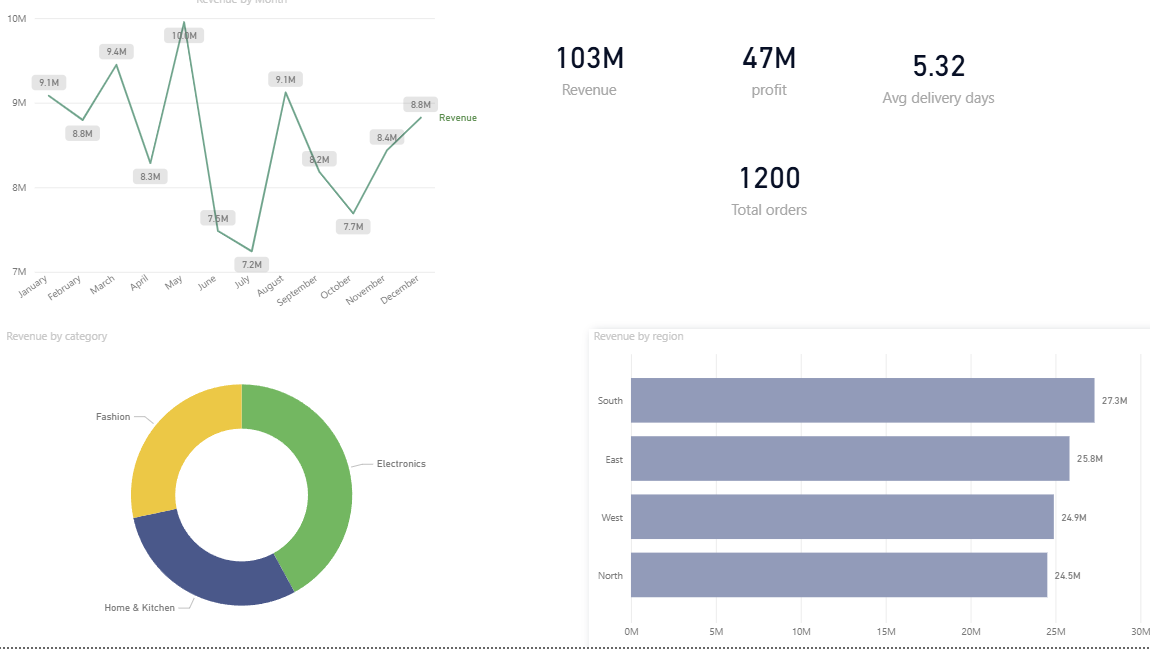

The page's visual inventory and layout, read from the dashboard file:
{"tool":"powerbi","page":{"name":"Page 1","canvas":[1280,720],"ordinal":0},"visuals":[{"type":"lineChart","fields":{"Category":["orders.order_date.Variation.Date Hierarchy.Month"],"Y":["measures (2).Revenue"]},"box":[9.6,0,526.9,359.5],"z":0},{"type":"clusteredBarChart","fields":{"Category":["orders.region"],"Y":["measures (2).Revenue"]},"box":[654.5,370.5,625.7,349.9],"z":1000},{"type":"donutChart","fields":{"Category":["products.category"],"Y":["measures (2).Revenue"]},"box":[10,370,527,350],"z":2000},{"type":"card","fields":{"Values":["measures (2).Revenue"]},"box":[551.6,0,205.8,163.3],"z":2001},{"type":"card","fields":{"Values":["measures (2).profit"]},"box":[761.6,0,181.1,163.3],"z":2002},{"type":"card","fields":{"Values":["measures (2).Avg delivery days"]},"box":[942.7,0,190.7,179.8],"z":2003},{"type":"card","fields":{"Values":["measures (2).Total orders"]},"box":[749.2,149.6,205.8,127.6],"z":2004}]}

Visuals, with their boxes in screenshot pixels (x1, y1, x2, y2), scaled from the page's 1280x720 canvas onto the 1150x658 screenshot:
lineChart - orders.order_date.Variation.Date Hierarchy.Month x measures (2).Revenue: [9, 0, 482, 329]
clusteredBarChart - orders.region x measures (2).Revenue: [588, 339, 1149, 657]
donutChart - products.category x measures (2).Revenue: [9, 338, 482, 657]
card - measures (2).Revenue: [496, 0, 680, 149]
card - measures (2).profit: [684, 0, 847, 149]
card - measures (2).Avg delivery days: [847, 0, 1018, 164]
card - measures (2).Total orders: [673, 137, 858, 253]
